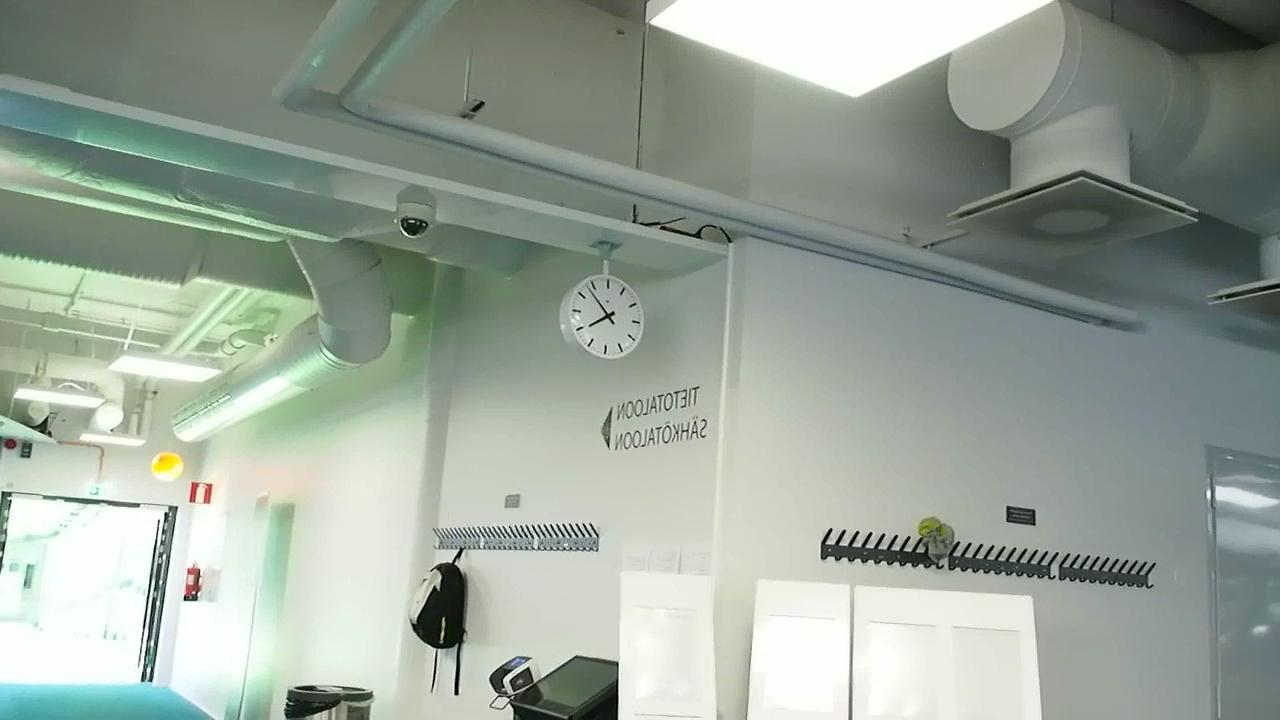clock: (560, 277, 646, 361)
